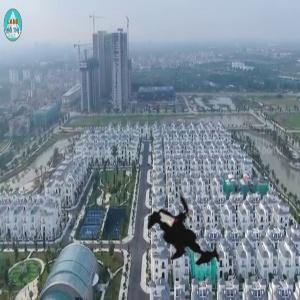drone: (127, 171, 251, 295)
